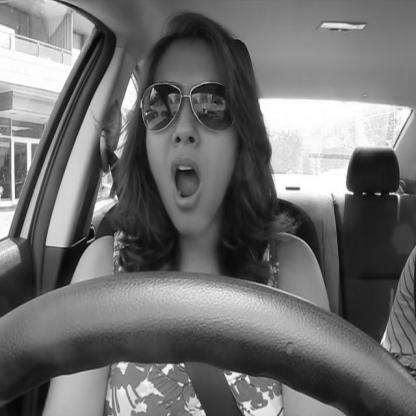seatbelt: (97, 0, 269, 416)
